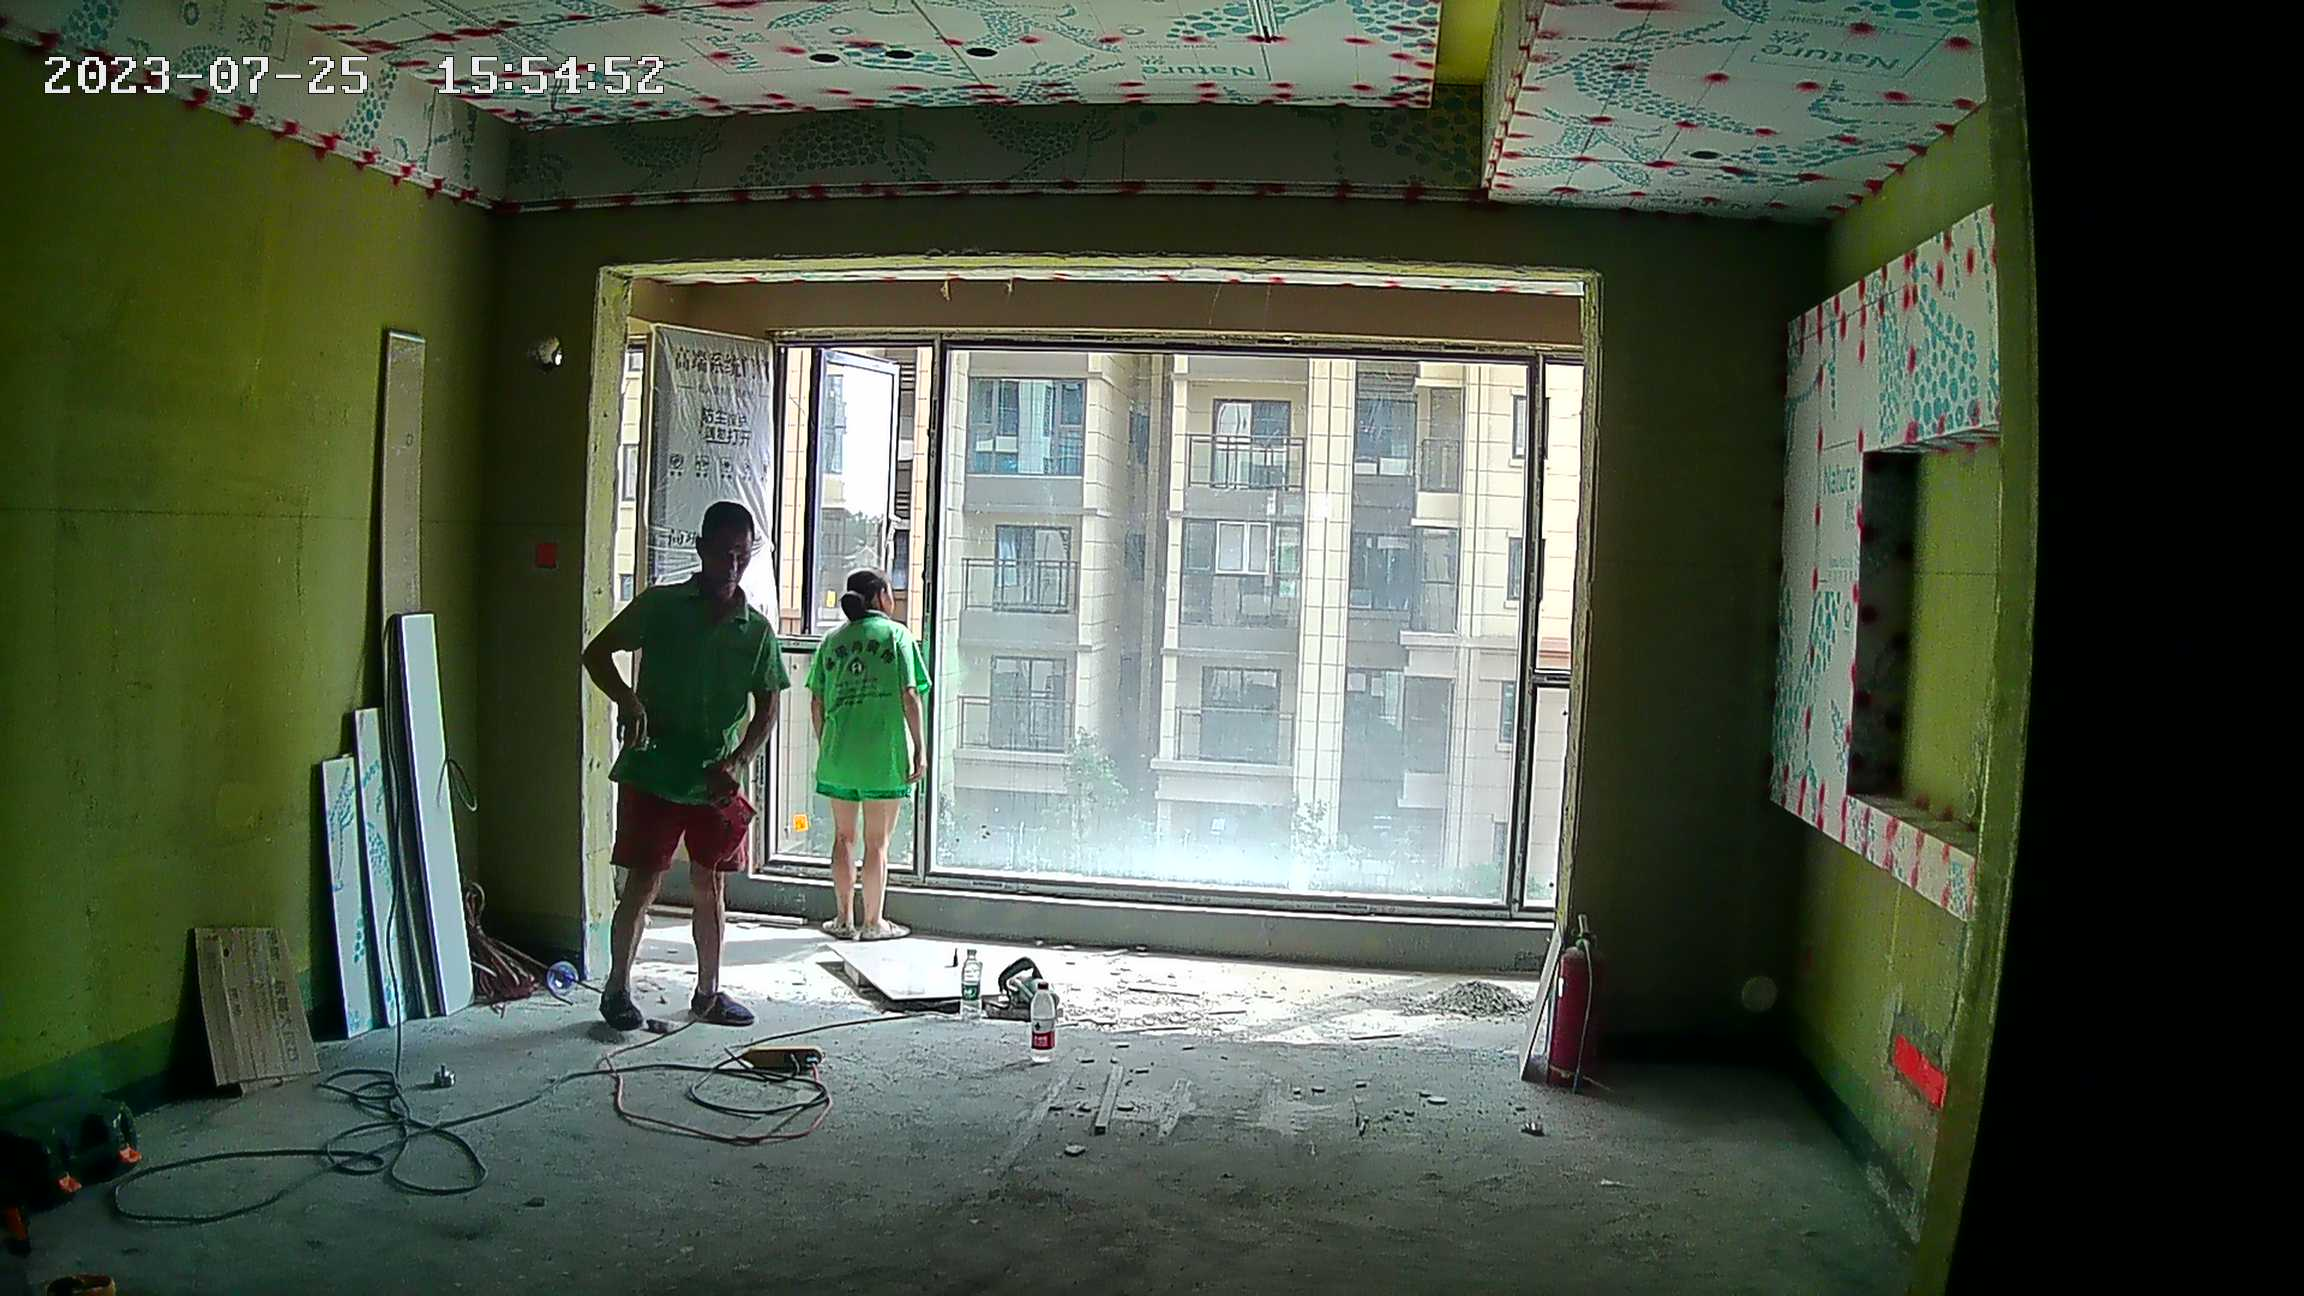people: (588, 501, 782, 1028), (804, 569, 929, 946)
window: (774, 341, 1561, 919)
